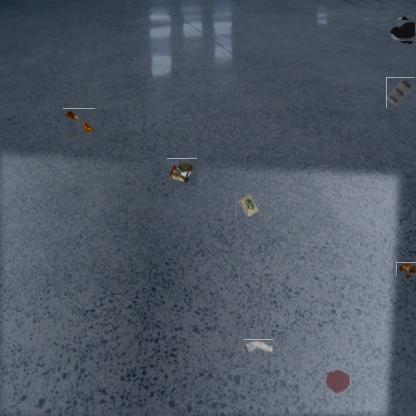dirty: (386, 77, 415, 108), (65, 107, 94, 137), (168, 157, 197, 186), (236, 191, 260, 217), (243, 339, 273, 354), (398, 259, 416, 277)
liquid: (324, 369, 352, 395), (391, 16, 416, 43)
